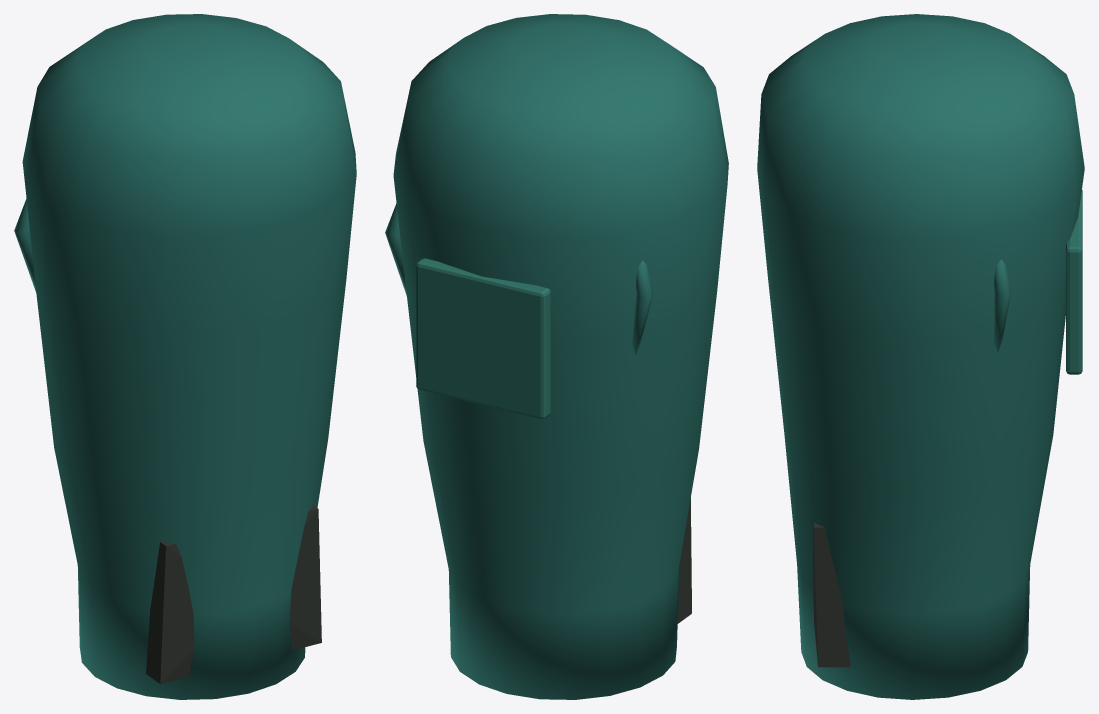
The model's file is CharArmUp.glb.
3 renders of one model, left to right at view 1: azimuth 30°, elevation 25°; view 2: azimuth 150°, elevation 25°; view 3: azimuth 270°, elevation 25°, orthographic.
Parts seen in each view (by area): view 1: CharArmUp; view 2: CharArmUp; view 3: CharArmUp.
Part boxes in pixels (x1,y1,x2,y2): CharArmUp: (14, 14, 356, 699); CharArmUp: (385, 14, 728, 699); CharArmUp: (757, 14, 1084, 699).
Size of the model in its own units: 0.162 by 0.319 by 0.156.
